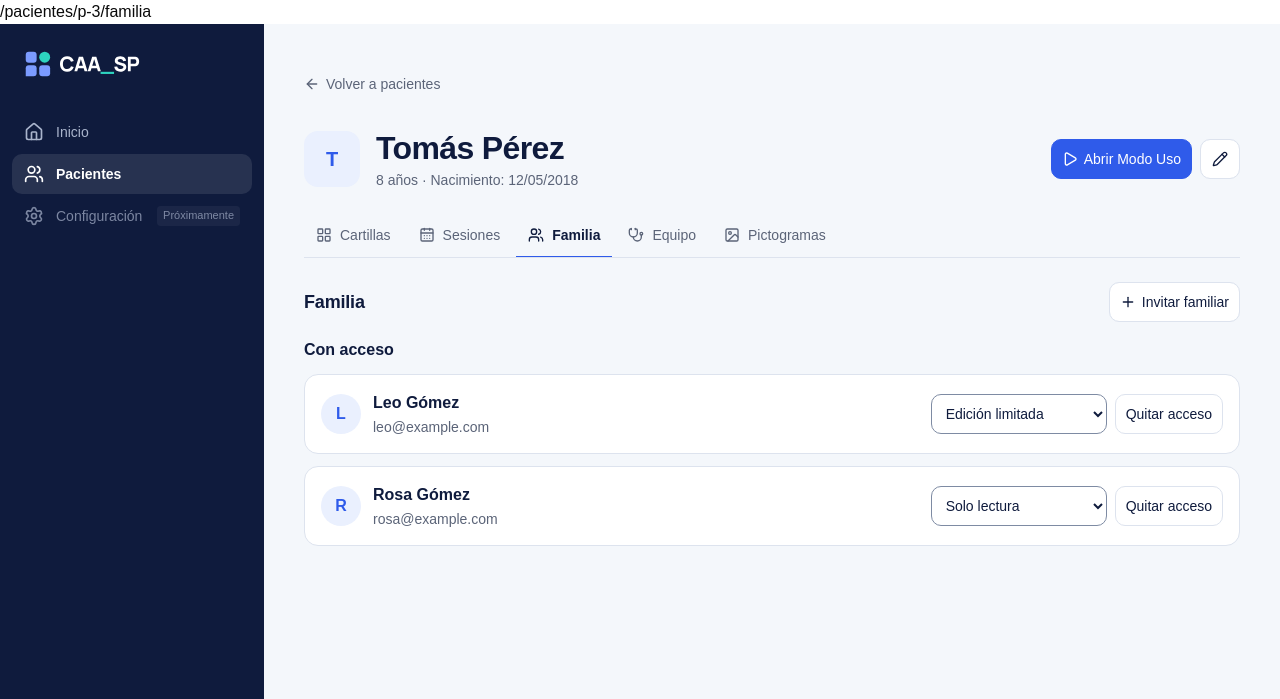
CollaboratorsPage › invitations › on a 400 keeps the form open with its message and shows no success
This screenshot has width=1280, height=699.
Expected: the text "Leo Gómez" is shown, [373,394,459,411]
Click the button "Invitar familiar": (1174, 302) [1109,282,1240,322]
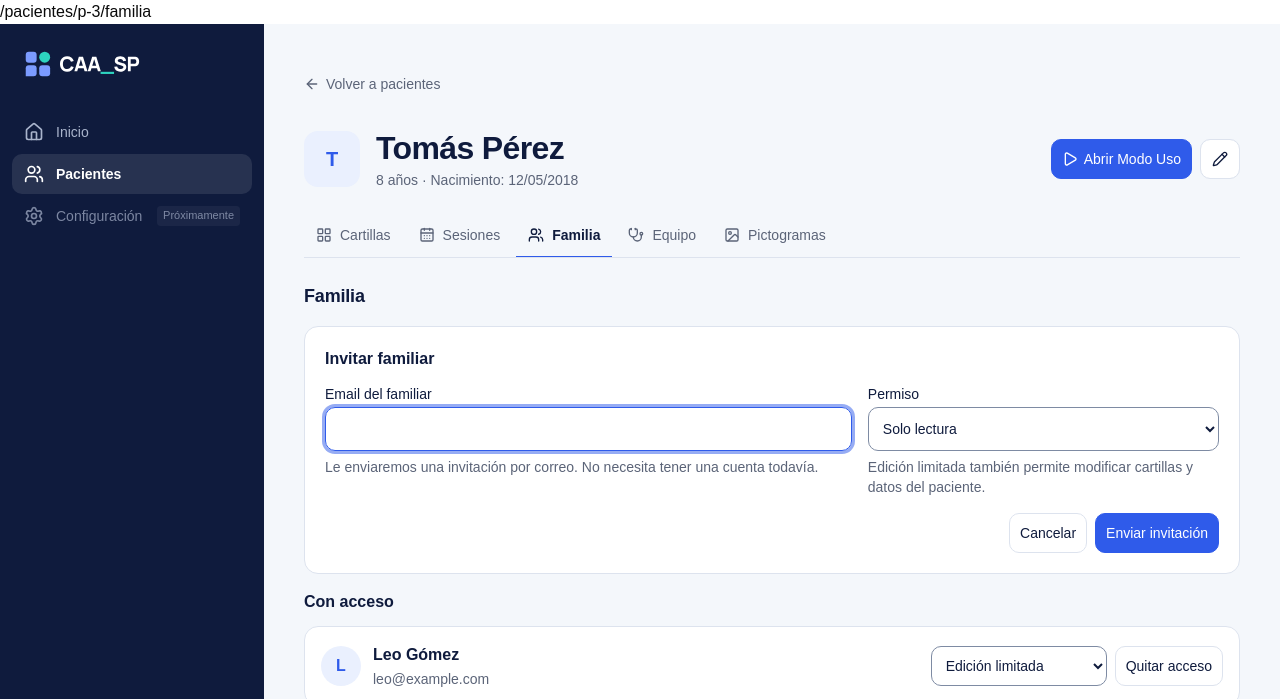
In the field labelled "Email del familiar": (588, 429) [325,407,852,451], type "leo@example.com"
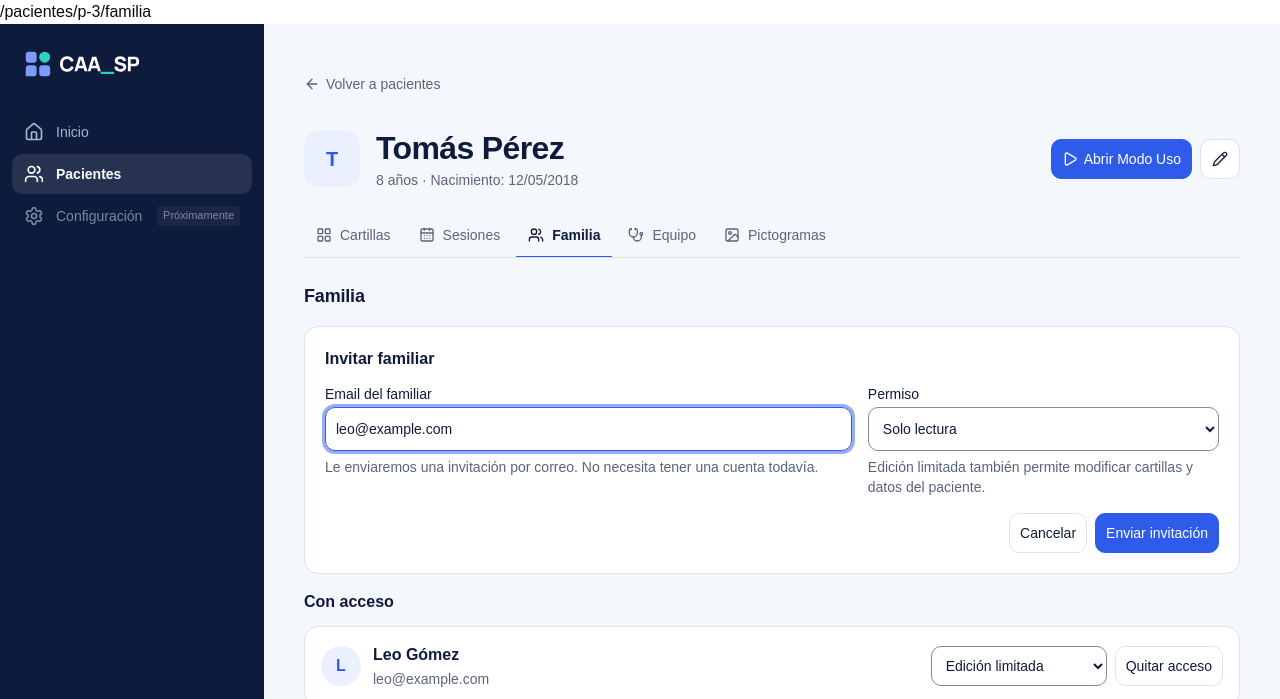
Click the button "Enviar invitación": (1157, 533) [1095,513,1219,553]
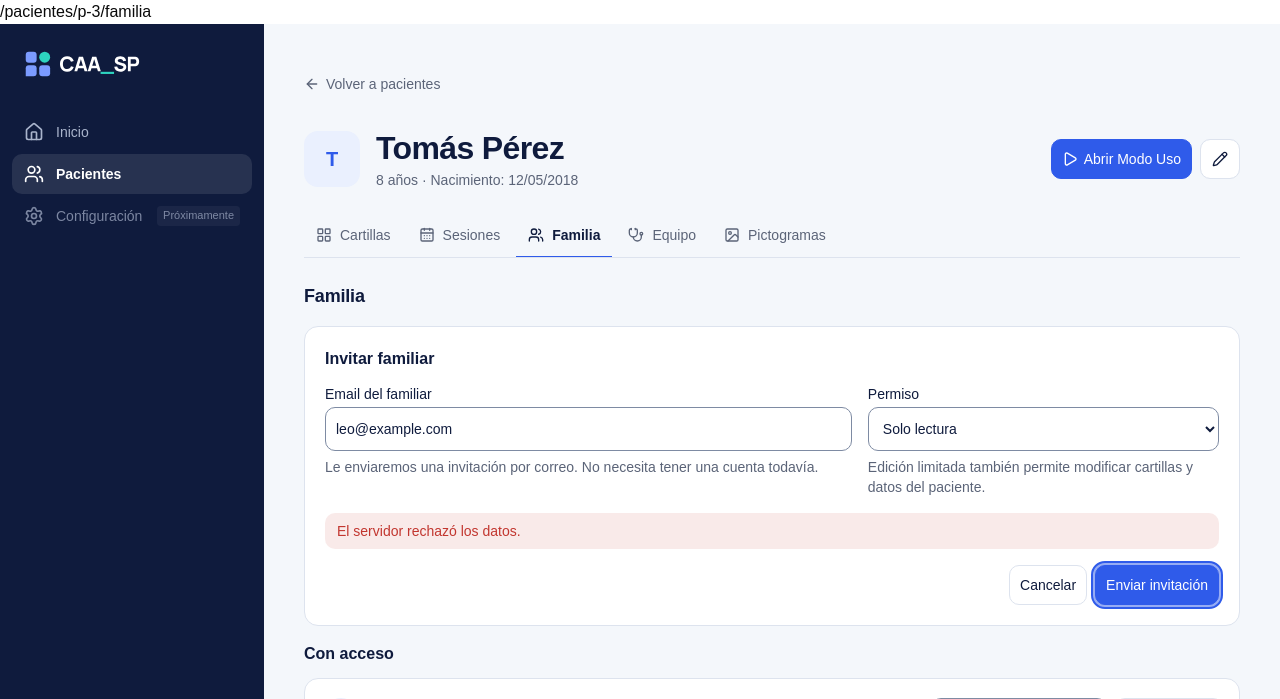
Expected: the message reads "El servidor rechazó los datos.", [337,523,521,539]
